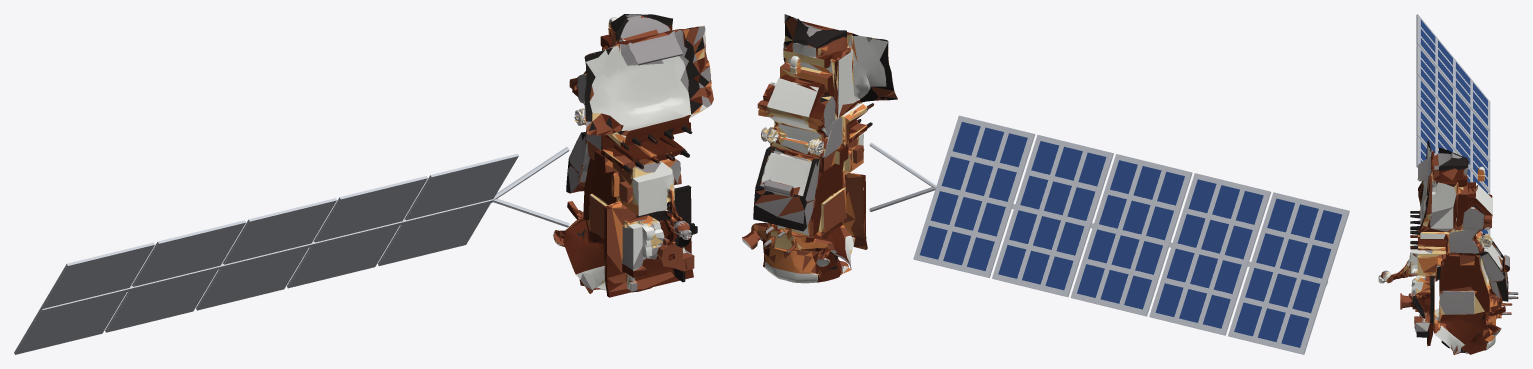
The model's file is noaa21.glb.
3 views of the same model, side by side, from view 1: azimuth 30°, elevation 25°; view 2: azimuth 150°, elevation 25°; view 3: azimuth 270°, elevation 25° (orthographic). The views are drawn at different scales.
Visible parts, largest first — view 1: body, foil; view 2: body, solar-panel, foil; view 3: body, solar-panel, foil.
Boxes of the visible parts, <box> form: body: <box>14,14,711,354</box>; foil: <box>553,15,713,293</box>; body: <box>742,14,1349,354</box>; solar-panel: <box>919,122,1342,347</box>; foil: <box>742,17,897,282</box>; body: <box>1378,14,1518,354</box>; solar-panel: <box>1420,19,1487,233</box>; foil: <box>1379,140,1517,354</box>.
Size of the model in its own units: 10.65 by 4.27 by 2.89.
